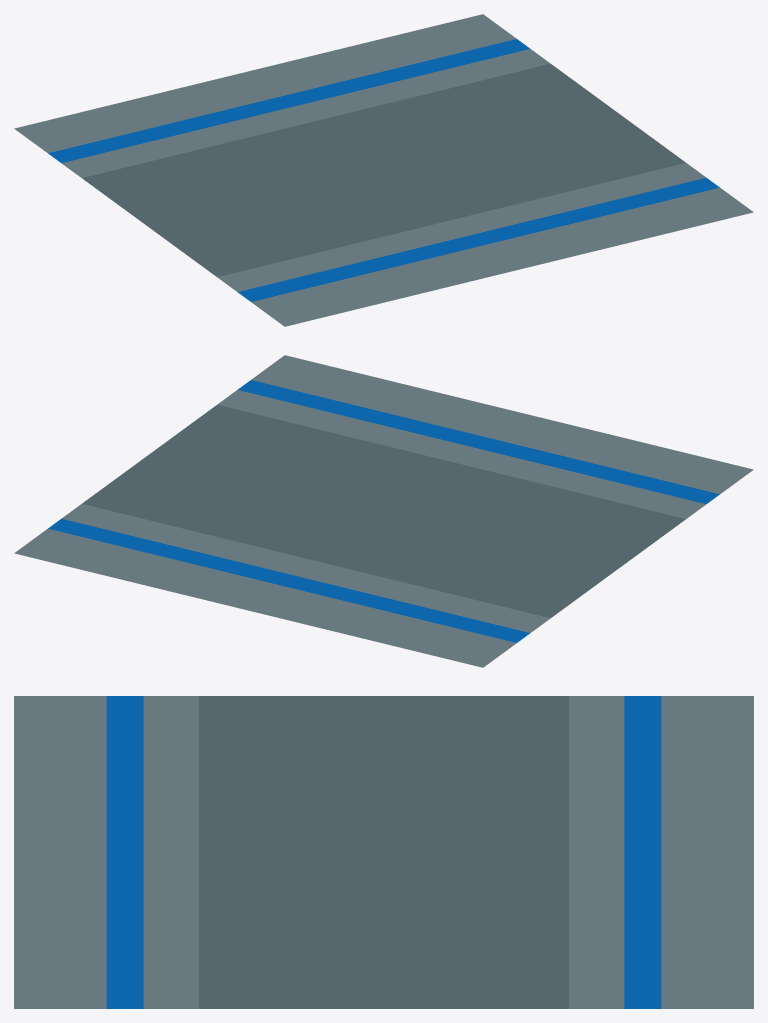
File: Ceiling_type_C_043.fbx
3 renders of one model, top to bottom at view 1: azimuth 30°, elevation 25°; view 2: azimuth 150°, elevation 25°; view 3: azimuth 270°, elevation 25°, orthographic. The views are drawn at different scales.
Visible parts, largest first — view 1: Ceiling_type_C_043; view 2: Ceiling_type_C_043; view 3: Ceiling_type_C_043.
Part boxes in pixels (box(x1,y1,x2,y2)): Ceiling_type_C_043: box(14, 14, 753, 326); Ceiling_type_C_043: box(14, 355, 753, 667); Ceiling_type_C_043: box(14, 696, 753, 1008).
Bounding box in the file's own units: 400 × 400 × 1.2.
